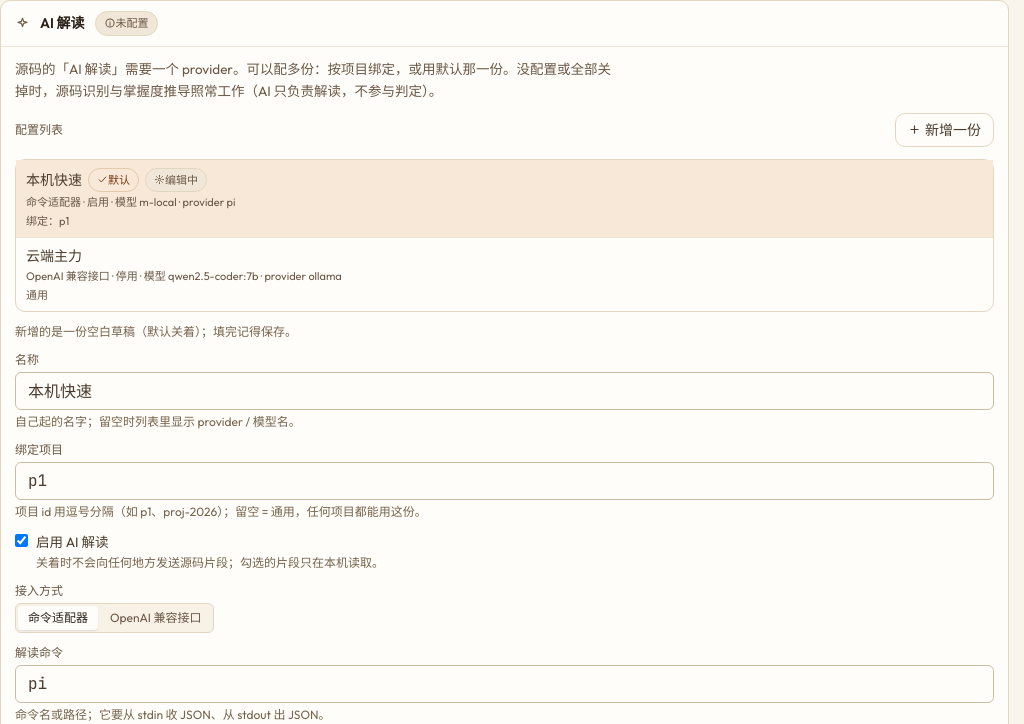
Test case: M9 · 设置页「AI 解读」区 · 单份的字段行为 › ⚠️ **key 只显示末 4 位**，读回来的视图里没有全文
Click the button "云端主力".
click(54, 256)  # box [16,238,993,311]
(page scrolled)
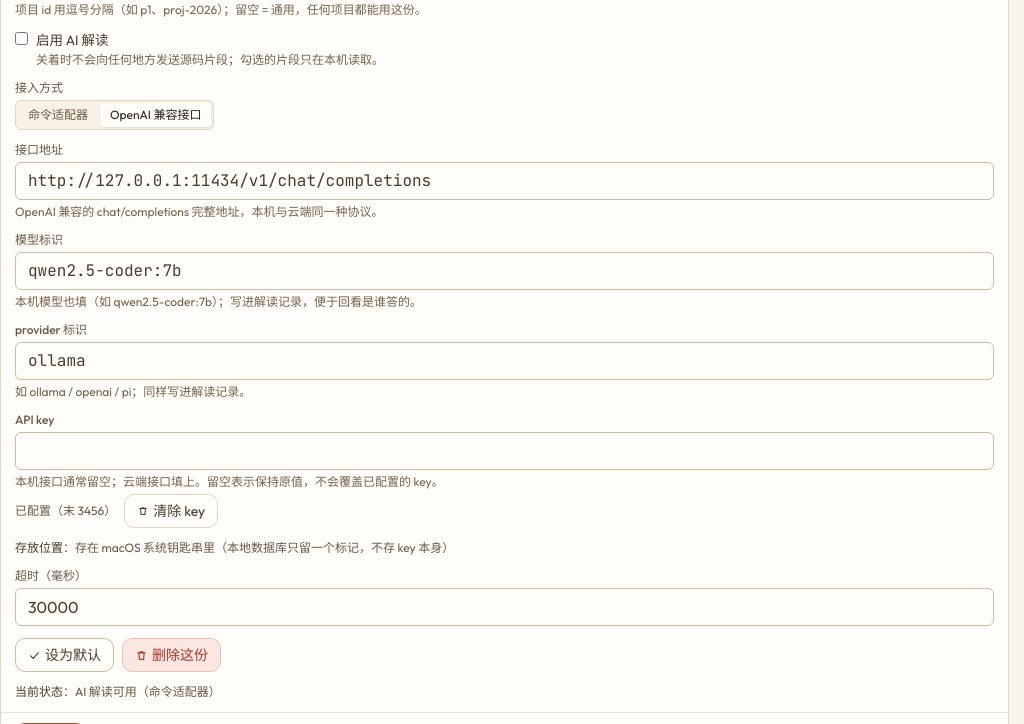
expect the text "已配置（末 3456）" is shown: met, box [15,503,116,519]
